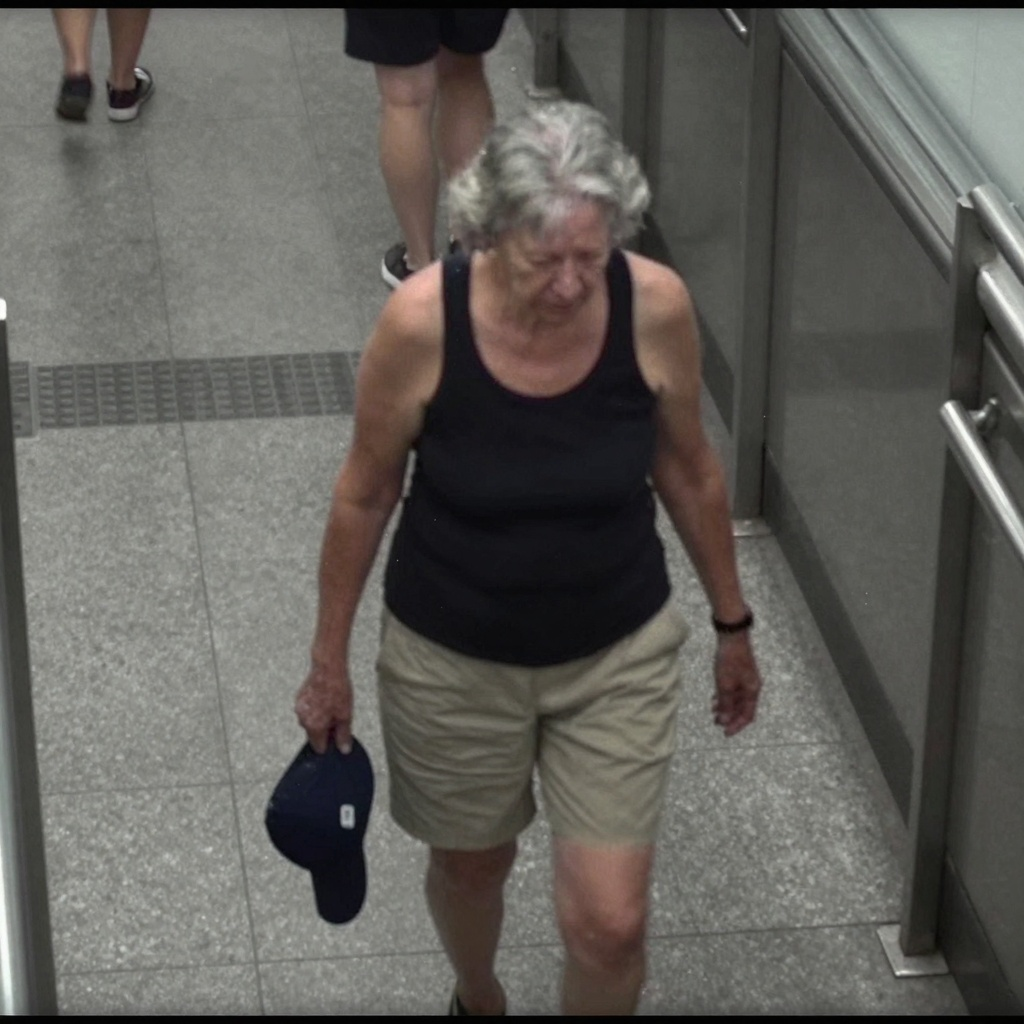Normal activity: (293, 76, 764, 999), (342, 5, 509, 288), (51, 9, 155, 125)
